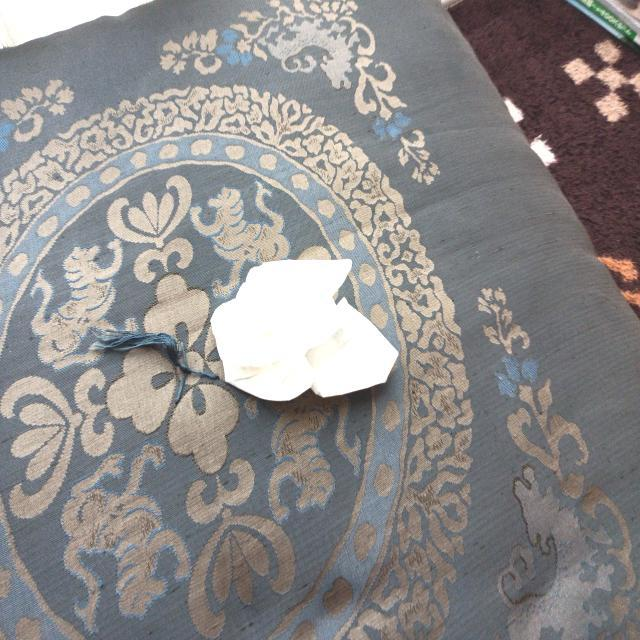Paper: (206, 246, 406, 413)
